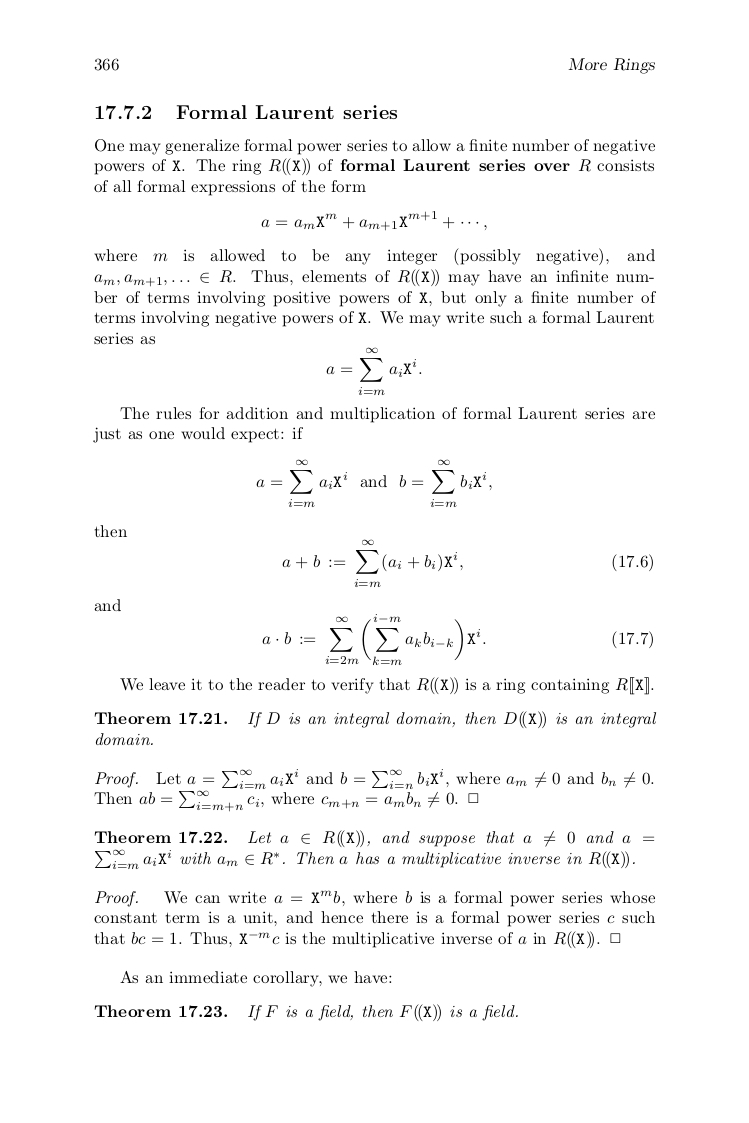formula: (262, 615, 652, 665), (282, 539, 652, 586), (256, 459, 491, 506), (261, 210, 486, 231), (326, 347, 421, 394)
